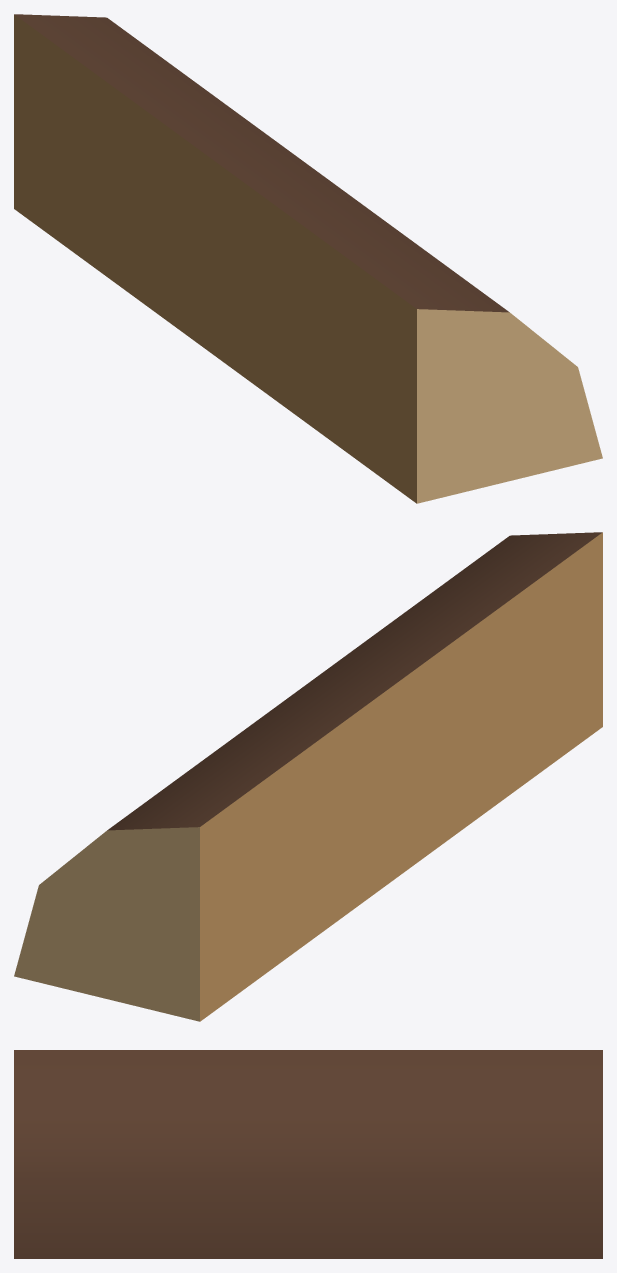
Rendered from SM_Firewood_Split.glb.
The picture shows the model from 3 angles, top to bottom: view 1: azimuth 30°, elevation 25°; view 2: azimuth 150°, elevation 25°; view 3: azimuth 270°, elevation 25°; orthographic projection. The views are drawn at different scales.
Parts seen in each view (by area): view 1: SM_Firewood_Split; view 2: SM_Firewood_Split; view 3: SM_Firewood_Split.
Part boxes in pixels (x1=…): SM_Firewood_Split: x1=14, y1=14, x2=602, y2=503; SM_Firewood_Split: x1=14, y1=532, x2=602, y2=1021; SM_Firewood_Split: x1=14, y1=1050, x2=602, y2=1258.
Bounding box in the file's own units: 0.12 × 0.12 × 0.45.
Materials: 1 (1 with a texture image).
